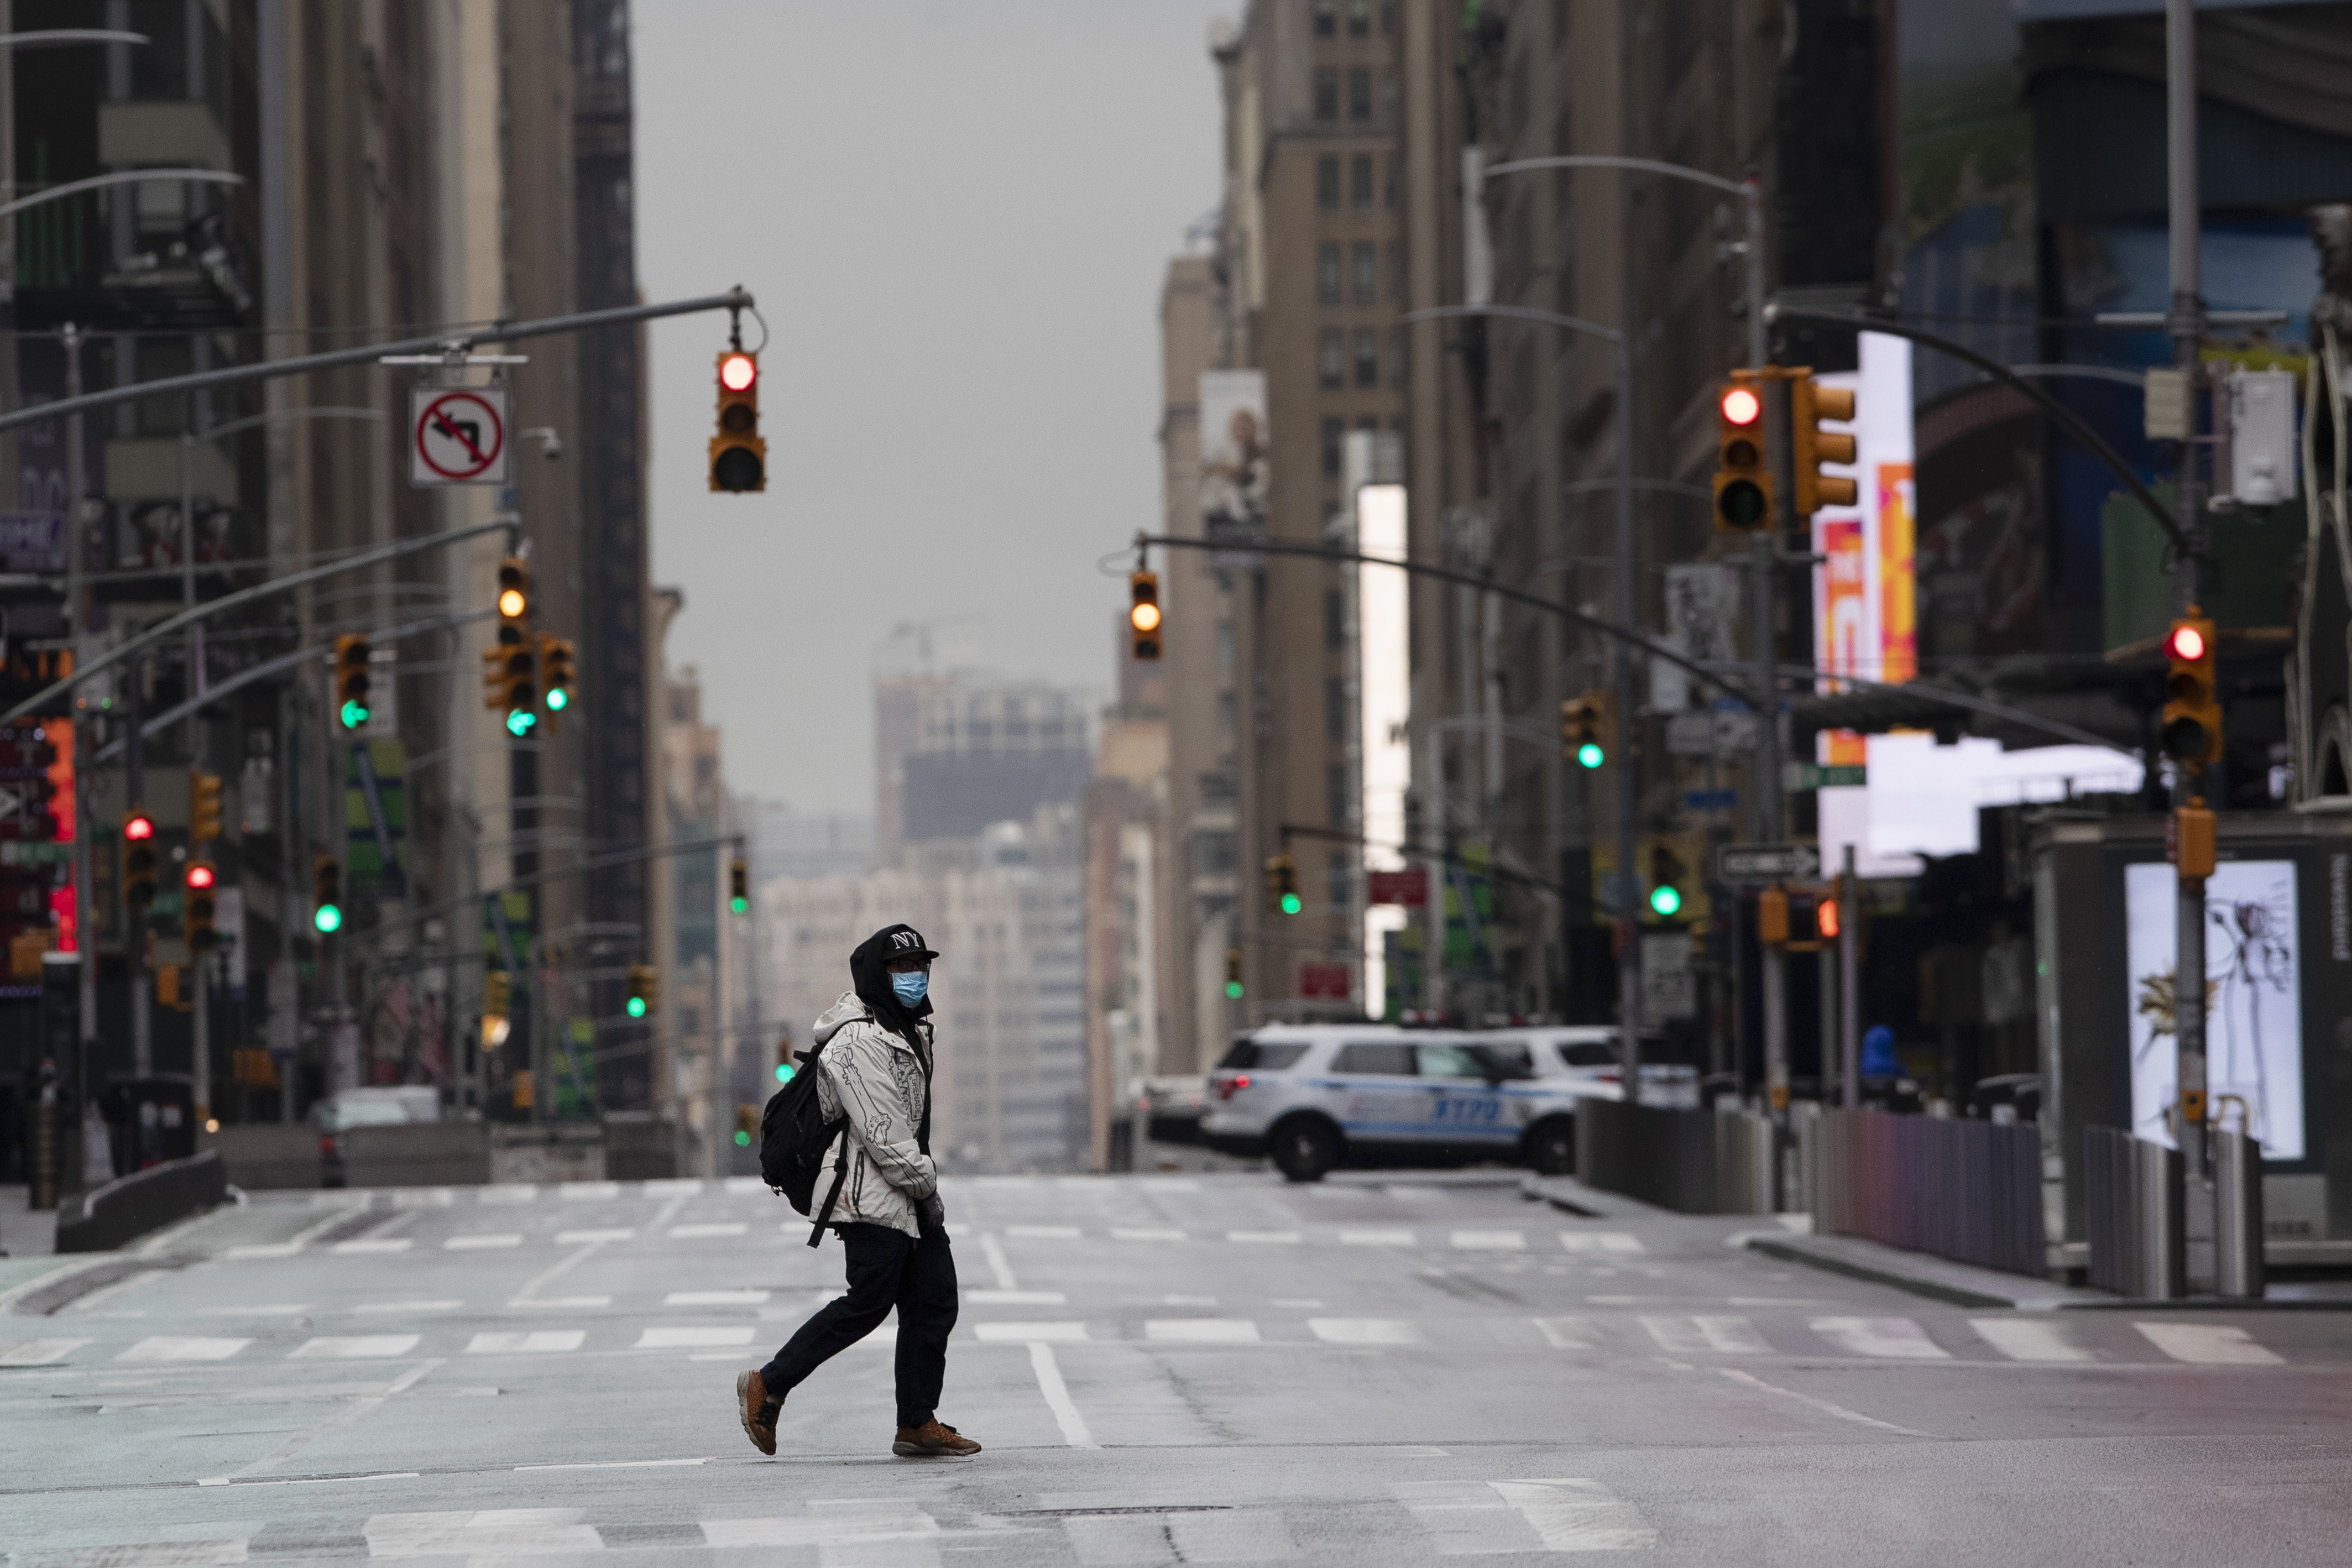car: (1179, 1005, 1598, 1189)
person: (710, 898, 1019, 1474)
